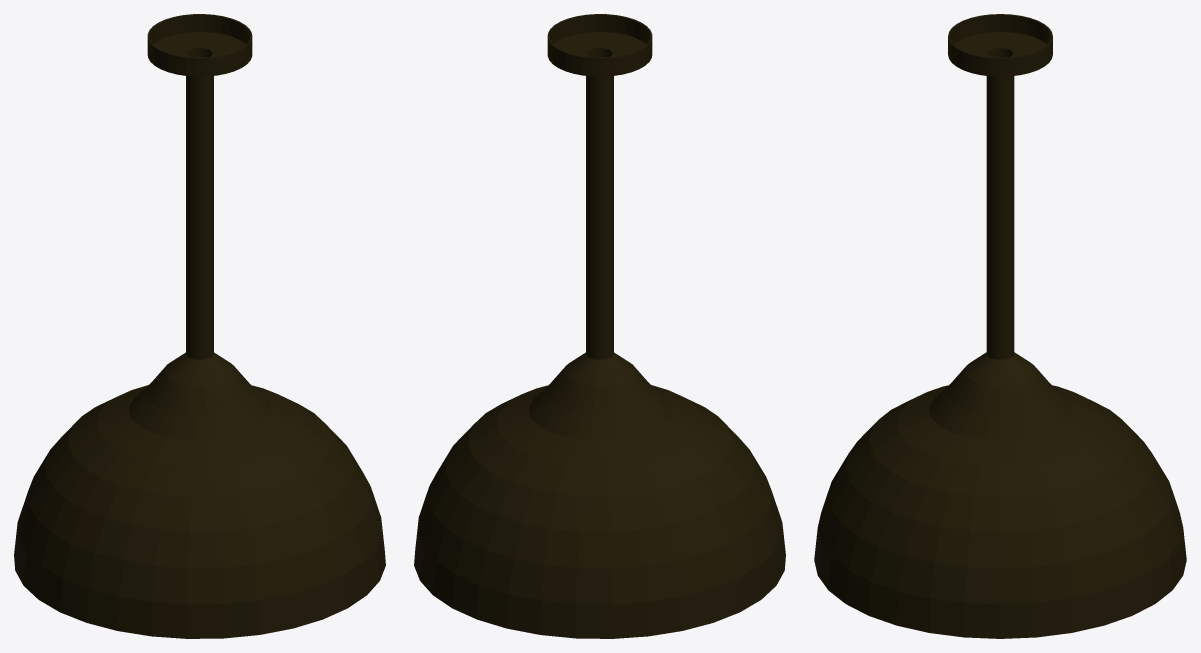
The model's file is lightfixture.obj.
3 renders of one model, left to right at view 1: azimuth 30°, elevation 25°; view 2: azimuth 150°, elevation 25°; view 3: azimuth 270°, elevation 25°, orthographic.
Parts seen in each view (by area): view 1: Sphere; view 2: Sphere; view 3: Sphere.
Boxes of the visible parts, <box> form: Sphere: <box>14,14,385,638</box>; Sphere: <box>414,14,785,638</box>; Sphere: <box>814,14,1186,638</box>.
Bounding box in the file's own units: 2 × 3.1 × 2.
